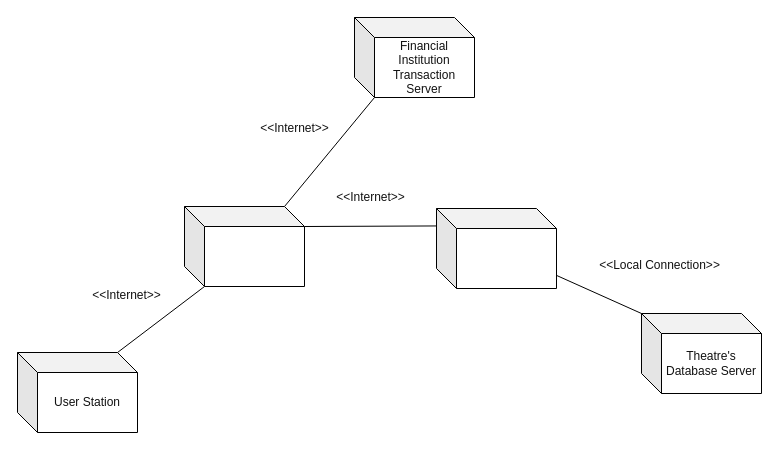
Image size: 779x450. Some labels were removed from this diagram. The centre of each missing label's shape, as x and y in pixels:
Main Database: (244,246)
Theatre Local Server: (496,248)
